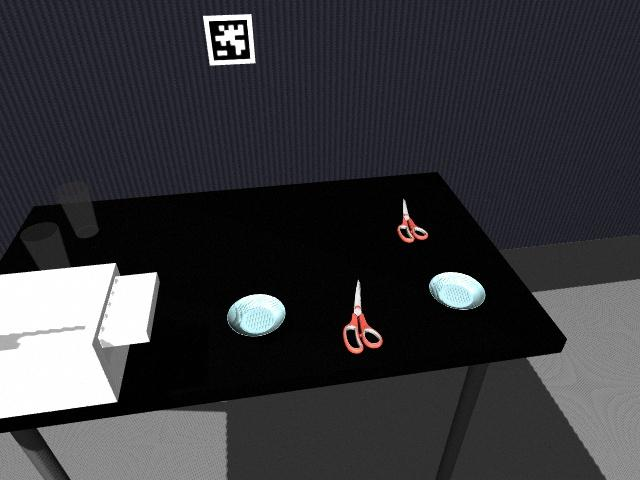cup: (53, 181, 101, 240), (21, 222, 70, 271)
plate: (224, 292, 289, 338), (429, 272, 487, 311)
scissors: (341, 277, 387, 355), (399, 197, 431, 244)
